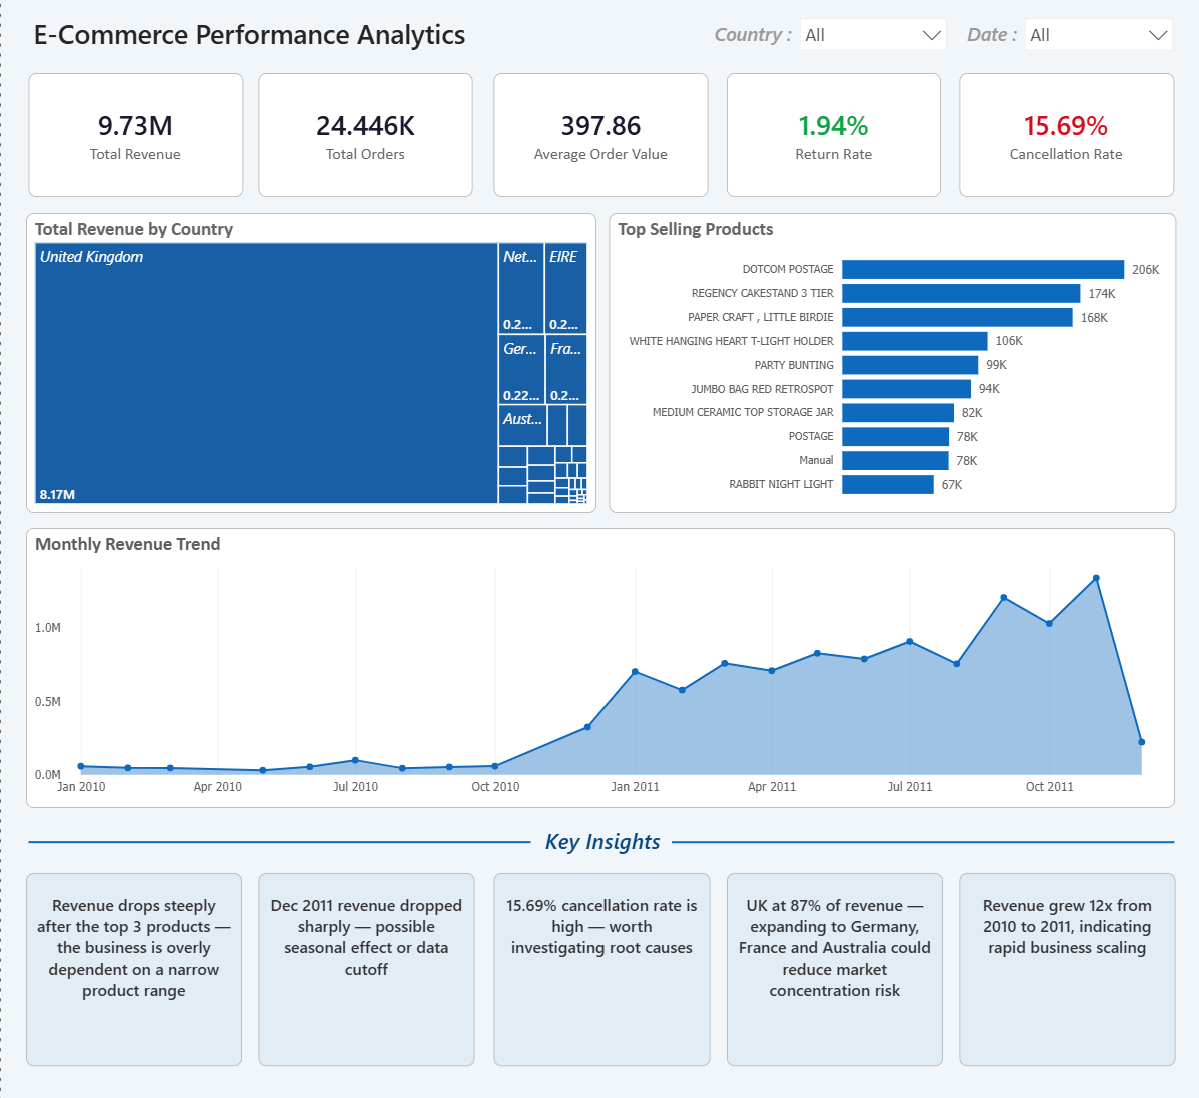

The page's visual inventory and layout, read from the dashboard file:
{"tool":"powerbi","page":{"name":"Page 1","canvas":[1200,1100],"ordinal":0},"visuals":[{"type":"cardVisual","fields":{"Data":["Sum(Table1.Revenue)"]},"box":[26.7,76,214.7,124],"z":0},{"type":"cardVisual","fields":{"Data":["Count(Table1.Invoice No)"]},"box":[258,76,214,124],"z":1000},{"type":"cardVisual","fields":{"Data":["Table1.Average Order Value"]},"box":[492,76,214,124],"z":2000},{"type":"areaChart","title":"Monthly Revenue Trend","fields":{"Category":["Table1.Invoice Date.Variation.Date Hierarchy.Year","Table1.Invoice Date.Variation.Date Hierarchy.Quarter","Table1.Invoice Date.Variation.Date Hierarchy.Month","Table1.Invoice Date.Variation.Date Hierarchy.Day"],"Y":["Sum(Table1.Revenue)"]},"box":[25,530.7,1148,280],"z":3000},{"type":"clusteredBarChart","title":"Top Selling Products","fields":{"Category":["Table1.Description"],"Y":["Sum(Table1.Revenue)"]},"box":[606.7,214.7,566.7,300],"z":4000},{"type":"cardVisual","fields":{"Data":["Table1.Cancellation Rate"]},"box":[958.7,76,214.7,124],"z":5000},{"type":"cardVisual","fields":{"Data":["Table1.Return Rate"]},"box":[725,76,214,124],"z":6000},{"type":"treemap","title":"Total Revenue by Country","fields":{"Group":["Table1.Country"],"Values":["Sum(Table1.Revenue)"]},"box":[26,215,570,300],"z":7000},{"type":"textbox","box":[13.3,7,471.7,73.3],"z":8000},{"type":"slicer","title":"Select Country","fields":{"Values":["Table1.Country"]},"box":[792.5,15,157.5,40],"z":9000},{"type":"slicer","fields":{"Values":["Table1.Invoice Date.Variation.Date Hierarchy.Year","Table1.Invoice Date.Variation.Date Hierarchy.Quarter","Table1.Invoice Date.Variation.Date Hierarchy.Month","Table1.Invoice Date.Variation.Date Hierarchy.Day"]},"box":[1016.2,15,158.8,51.2],"z":10000},{"type":"textbox","box":[707,17,126.2,40],"z":11000},{"type":"textbox","box":[959,17,73.8,37.5],"z":12000},{"type":"textbox","box":[258.7,874.7,216,193.3],"z":13000},{"type":"textbox","box":[25.3,875,216,193.3],"z":14000},{"type":"textbox","box":[958.7,874.7,216,193.3],"z":15000},{"type":"textbox","box":[492,874.7,216,193.3],"z":16000},{"type":"textbox","box":[725.3,874.7,216,193.3],"z":17000},{"type":"textbox","box":[26.3,822,1147.4,68.4],"z":18000},{"type":"shape","box":[26.5,812.2,502,63.3],"z":19000},{"type":"shape","box":[670.7,812,502.4,63.4],"z":20000}]}

Visuals, with their boxes in screenshot pixels (x1, y1, x2, y2), scaled from the page's 1200x1100 canvas onto the 1199x1098 screenshot:
cardVisual - Sum(Table1.Revenue): x1=27, y1=76, x2=241, y2=200
cardVisual - Count(Table1.Invoice No): x1=258, y1=76, x2=472, y2=200
cardVisual - Table1.Average Order Value: x1=492, y1=76, x2=705, y2=200
"Monthly Revenue Trend" areaChart: x1=25, y1=530, x2=1172, y2=809
"Top Selling Products" clusteredBarChart: x1=606, y1=214, x2=1172, y2=514
cardVisual - Table1.Cancellation Rate: x1=958, y1=76, x2=1172, y2=200
cardVisual - Table1.Return Rate: x1=724, y1=76, x2=938, y2=200
"Total Revenue by Country" treemap: x1=26, y1=215, x2=596, y2=514
textbox: x1=13, y1=7, x2=485, y2=80
"Select Country" slicer: x1=792, y1=15, x2=949, y2=55
slicer - Table1.Invoice Date.Variation.Date Hierarchy.Year x Table1.Invoice Date.Variation.Date Hierarchy.Quarter: x1=1015, y1=15, x2=1174, y2=66
textbox: x1=706, y1=17, x2=833, y2=57
textbox: x1=958, y1=17, x2=1032, y2=54
textbox: x1=258, y1=873, x2=474, y2=1066
textbox: x1=25, y1=873, x2=241, y2=1066
textbox: x1=958, y1=873, x2=1174, y2=1066
textbox: x1=492, y1=873, x2=707, y2=1066
textbox: x1=725, y1=873, x2=941, y2=1066
textbox: x1=26, y1=821, x2=1173, y2=889
shape: x1=26, y1=811, x2=528, y2=874
shape: x1=670, y1=811, x2=1172, y2=874
